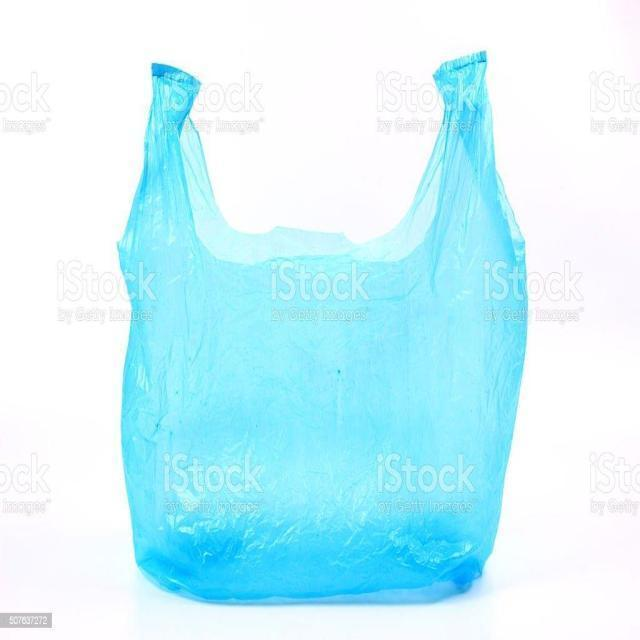Plastic_Bag: (121, 47, 515, 601)
